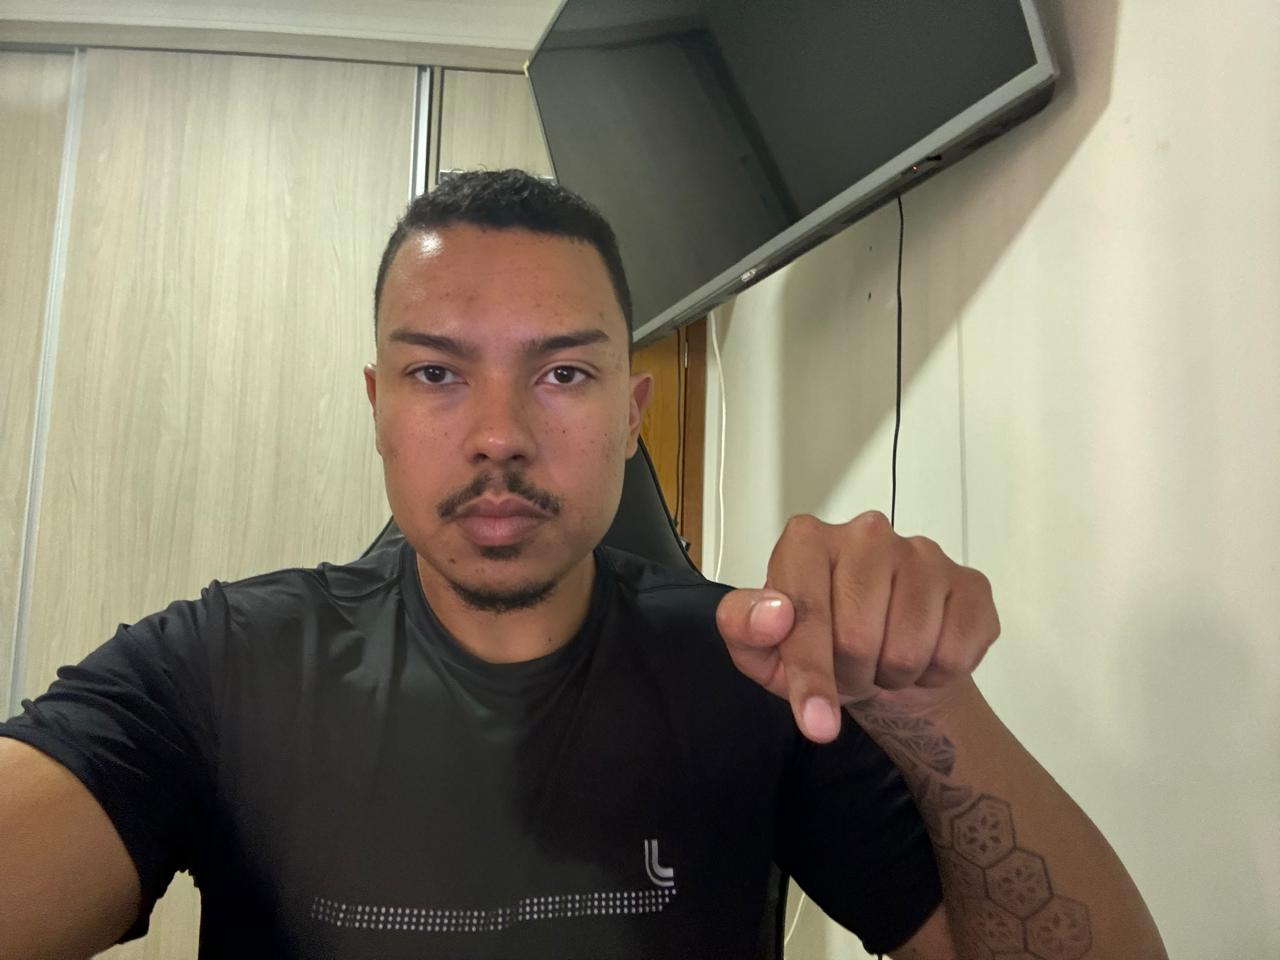q: (685, 499, 1016, 754)
